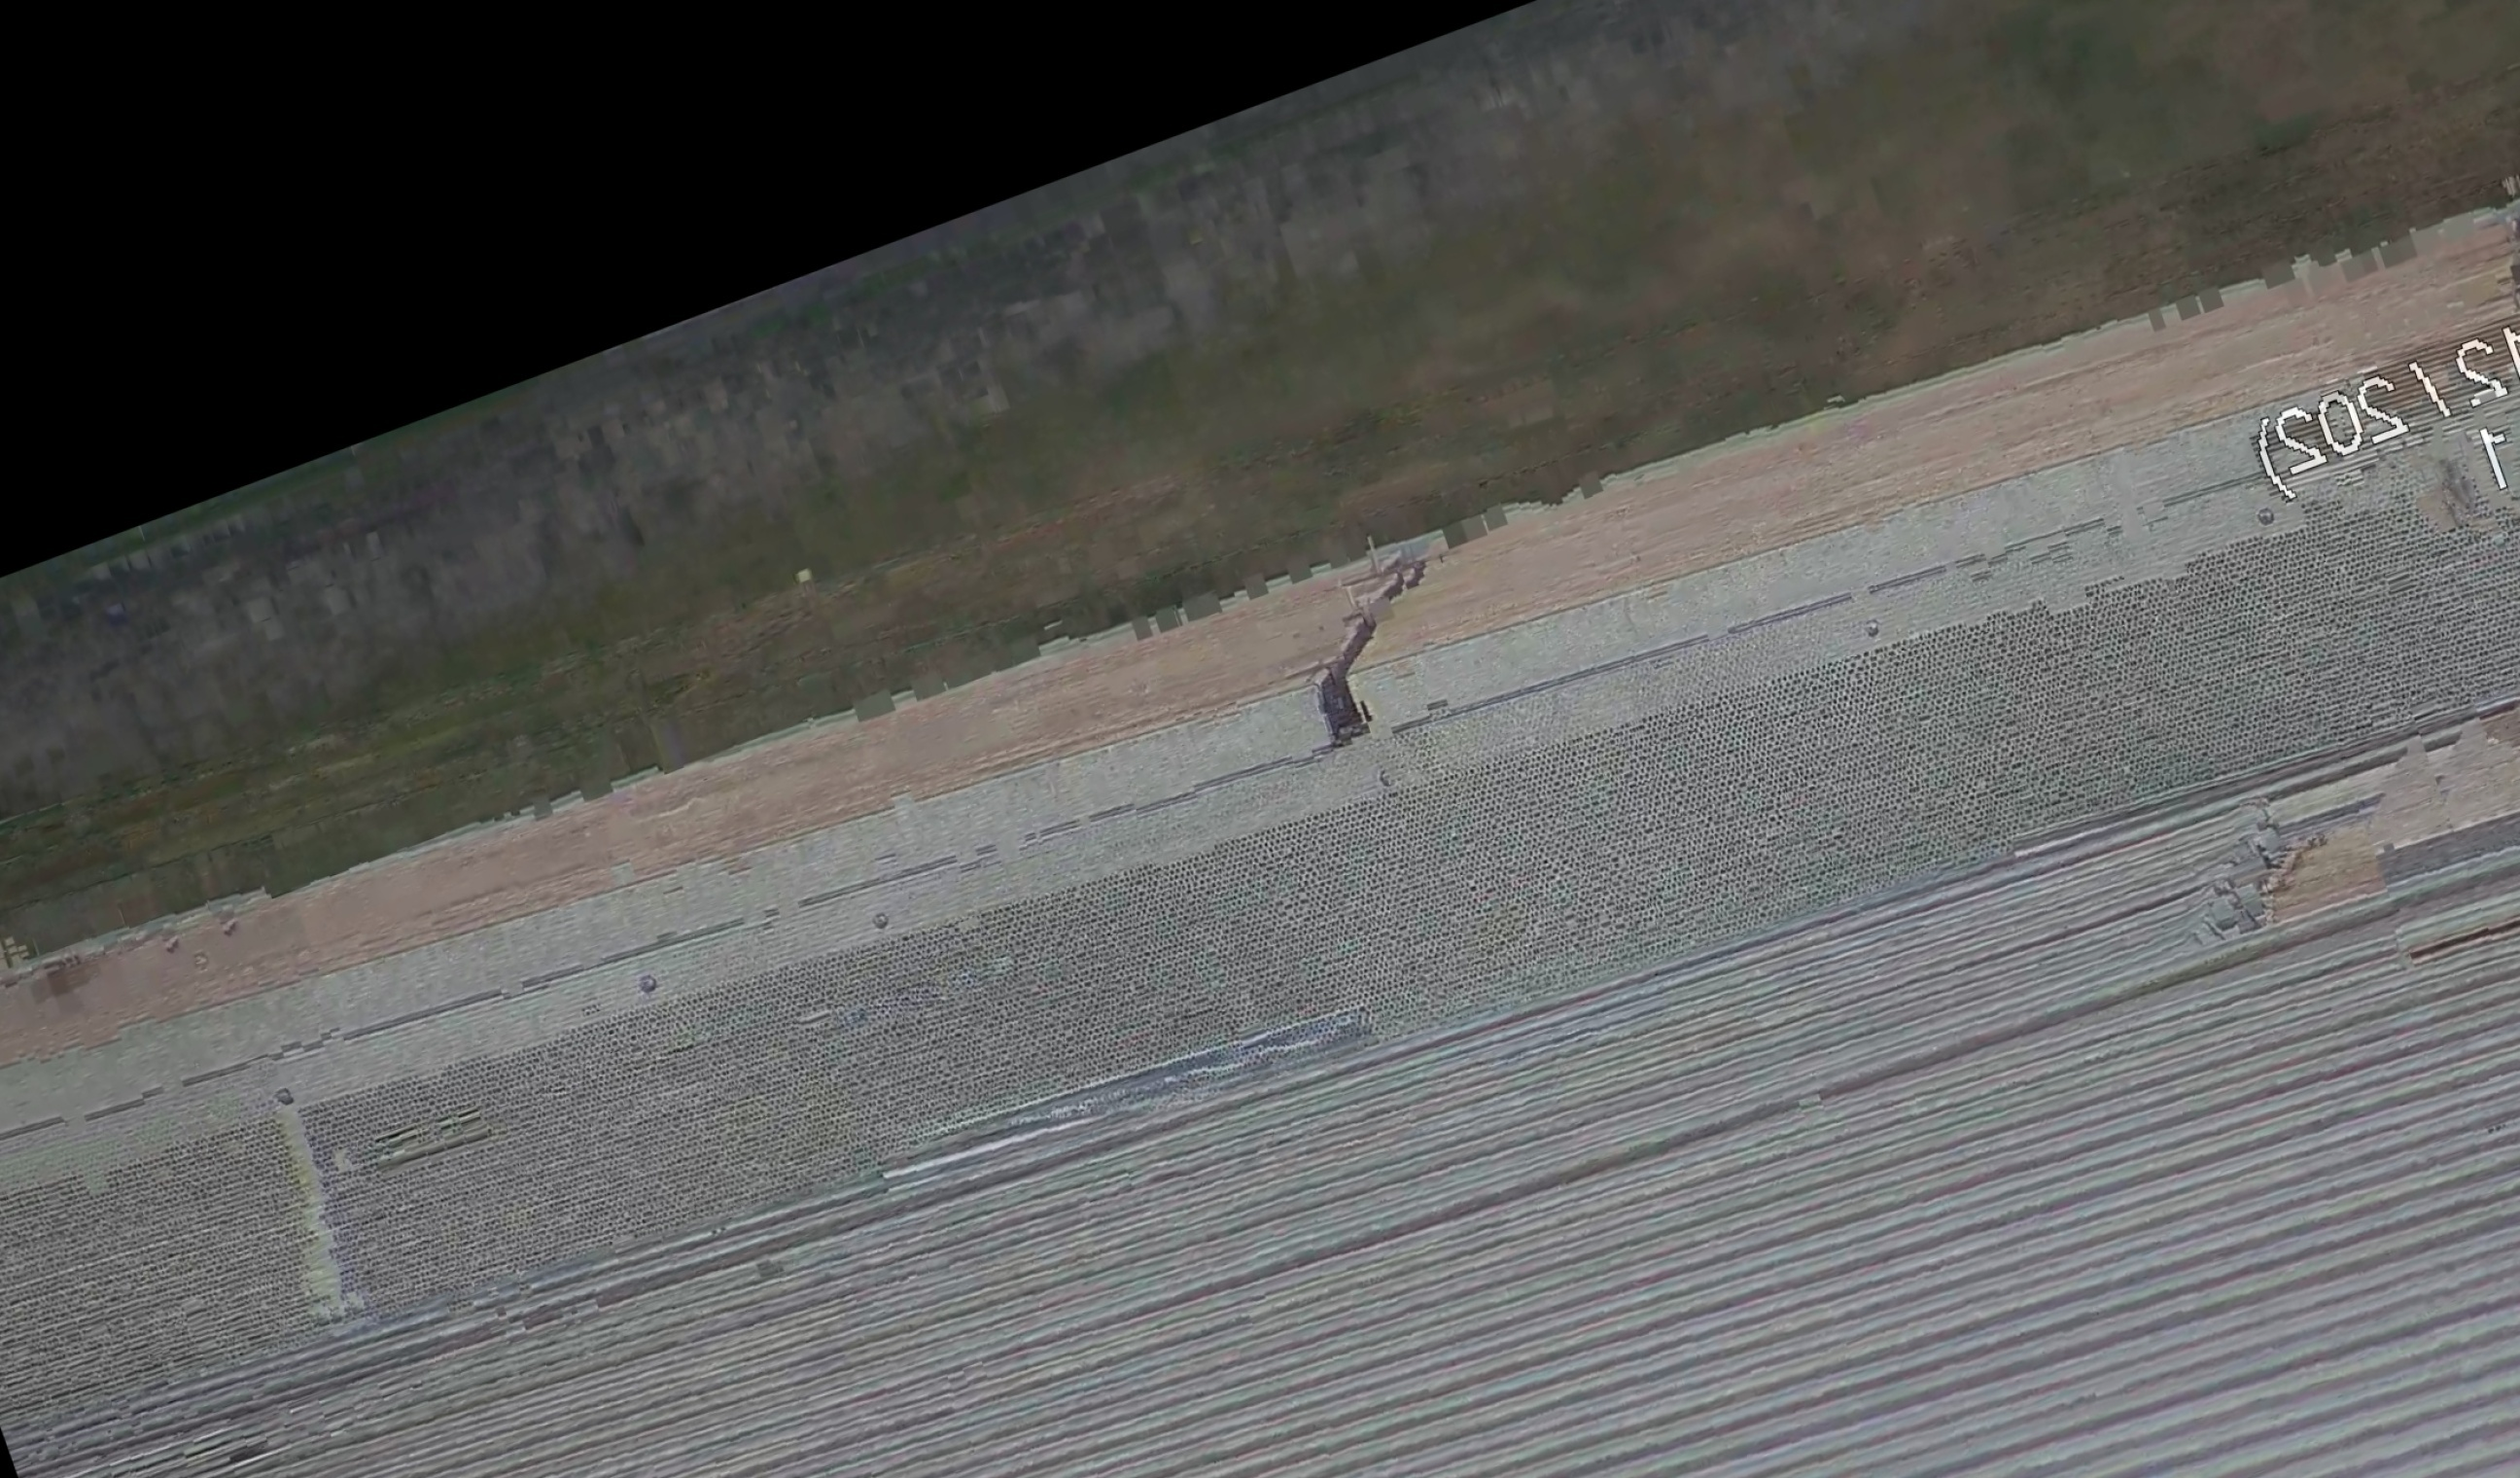Other: (1252, 507, 1486, 750)
